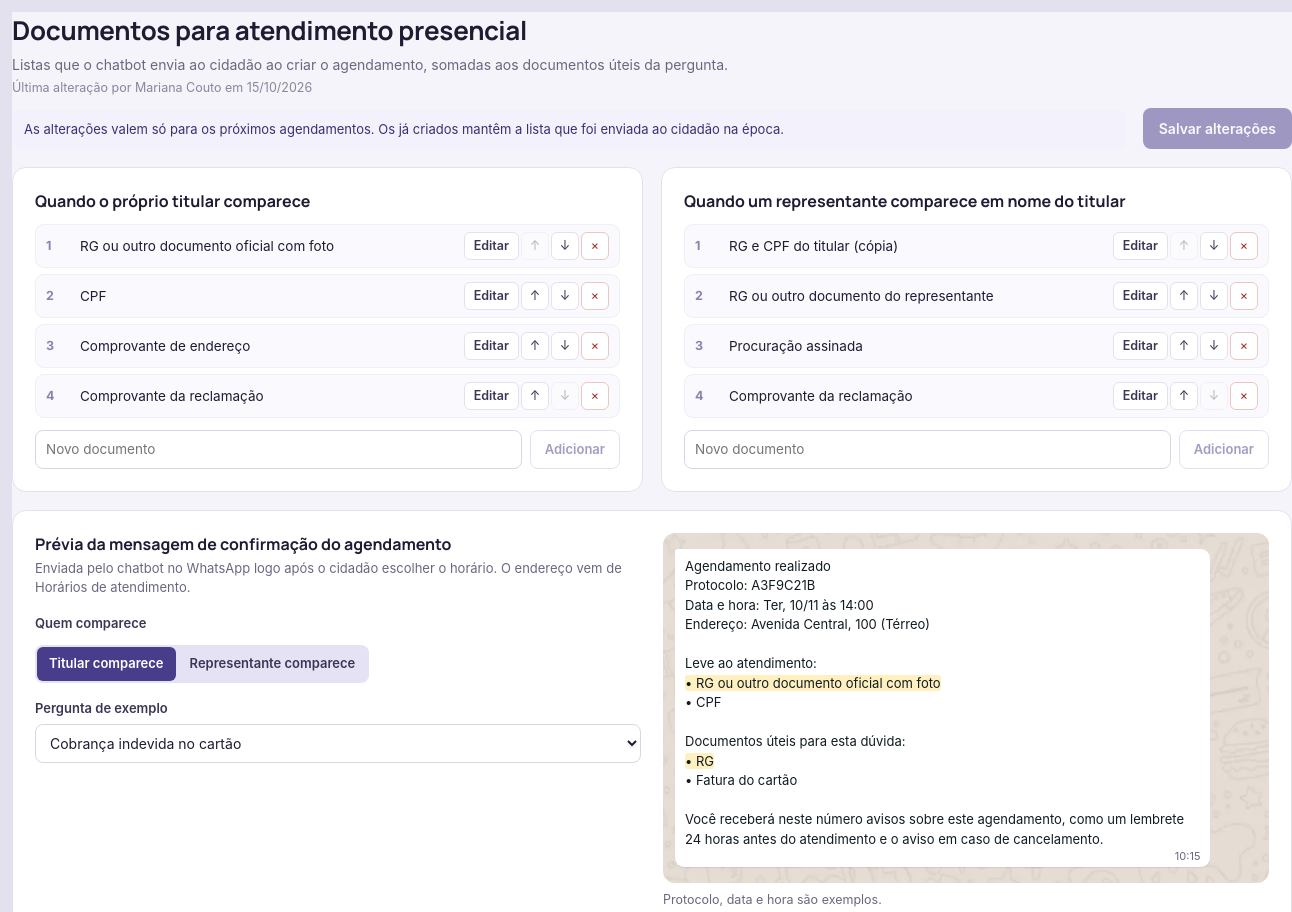
Test case: DocumentsPage › conta a mudança líquida e lista as pendentes ao passar o mouse
In the field named "Novo documento (Quando o próprio titular comparece)": (278, 449) [35, 430, 522, 469], type "Carteira de Trabalho"
Then press Enter
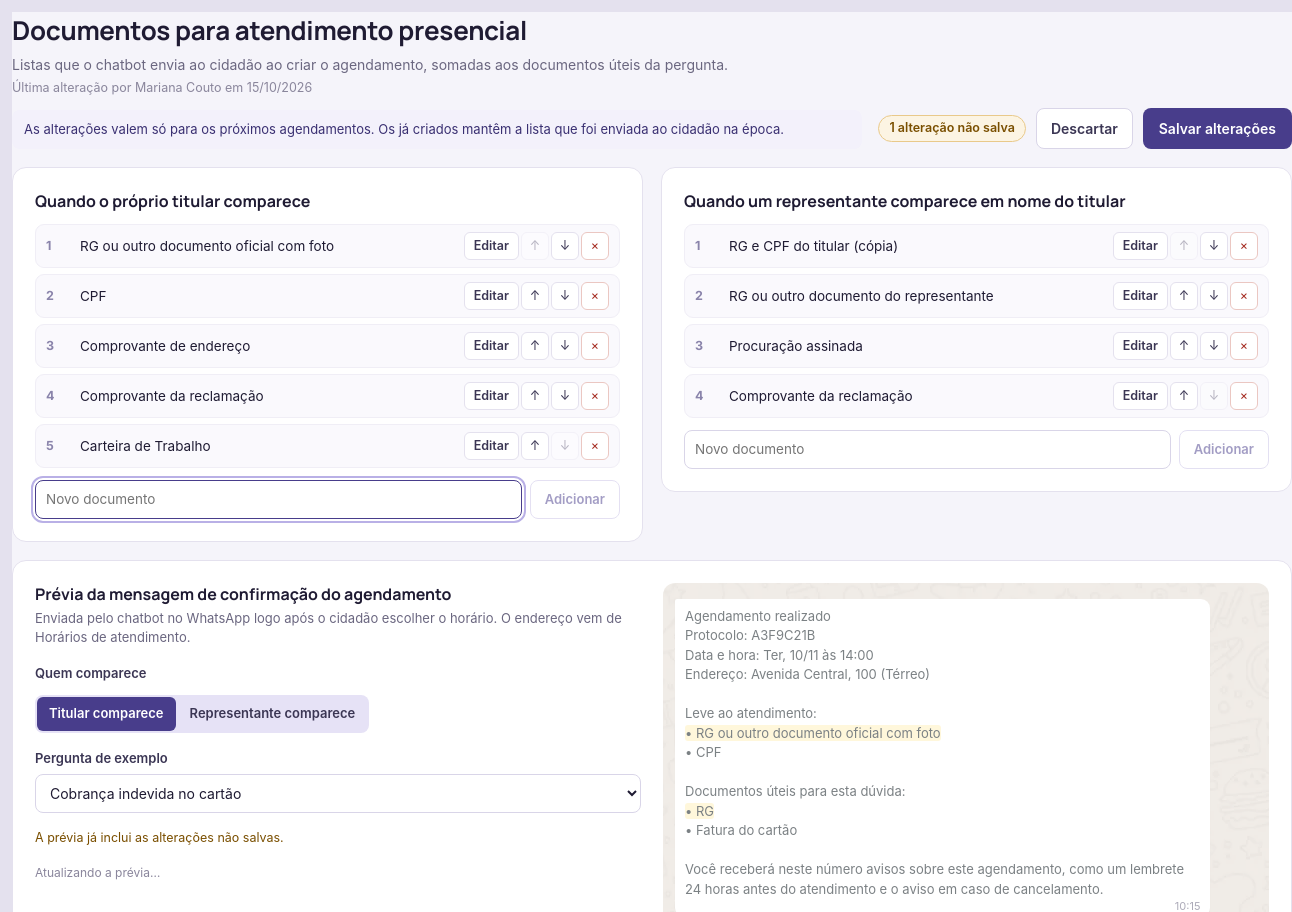
Click the button named "Remover CPF": (595, 296) [581, 282, 609, 310]
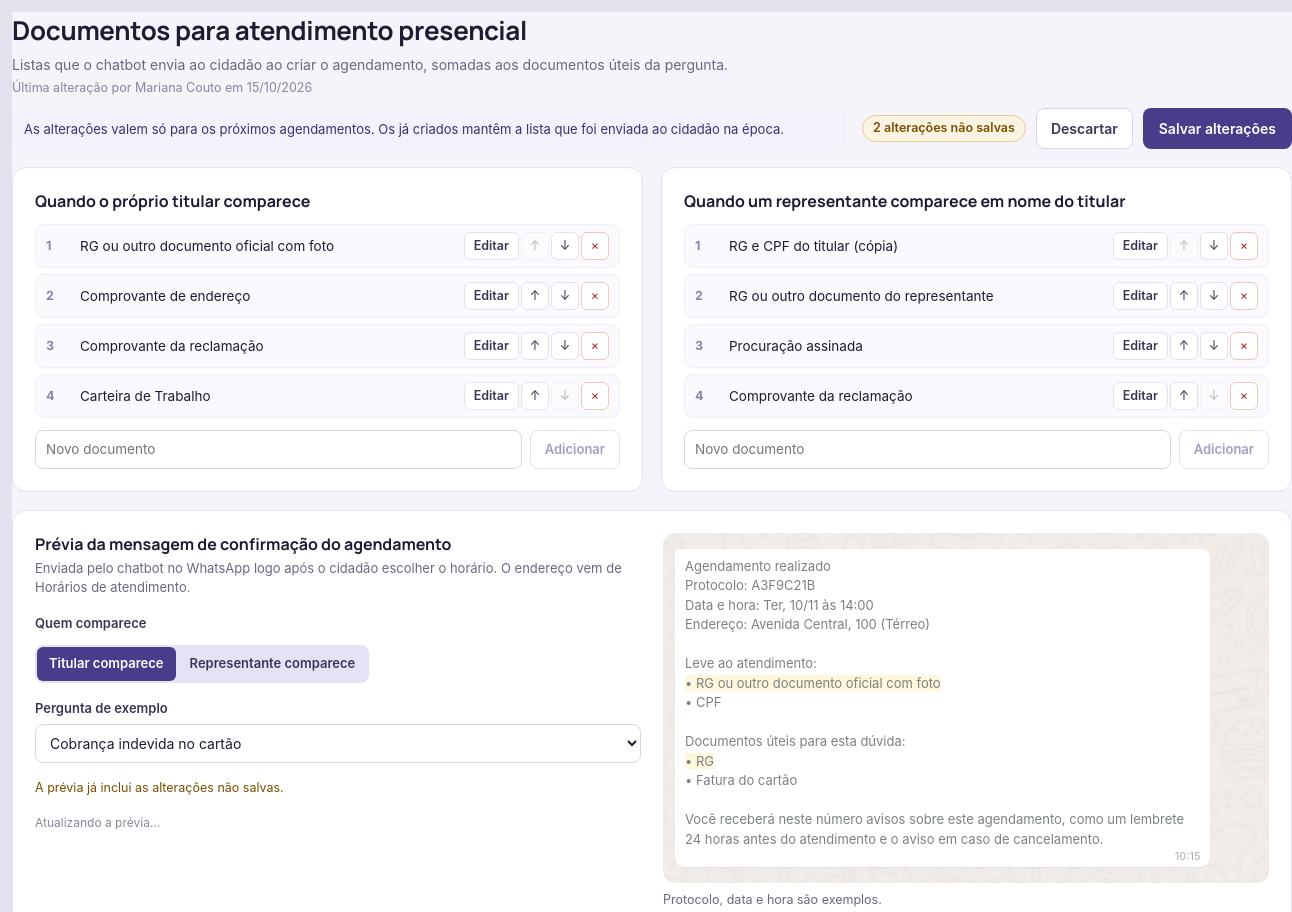
Click the button named "Mover Comprovante de endereço para cima": (535, 296) [521, 282, 549, 310]
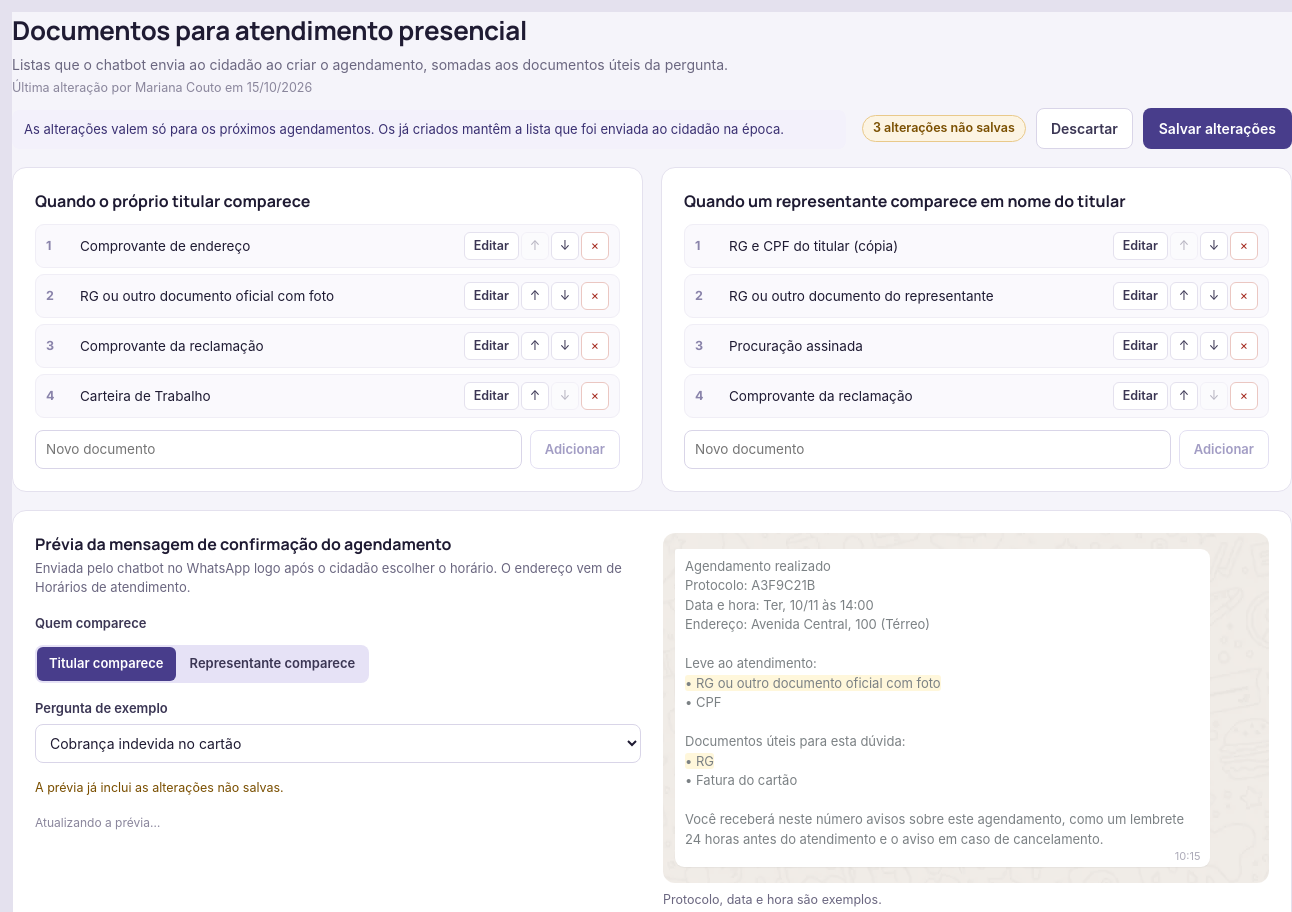
Hover over the button "3 alterações não salvas": (944, 129) [862, 115, 1026, 142]
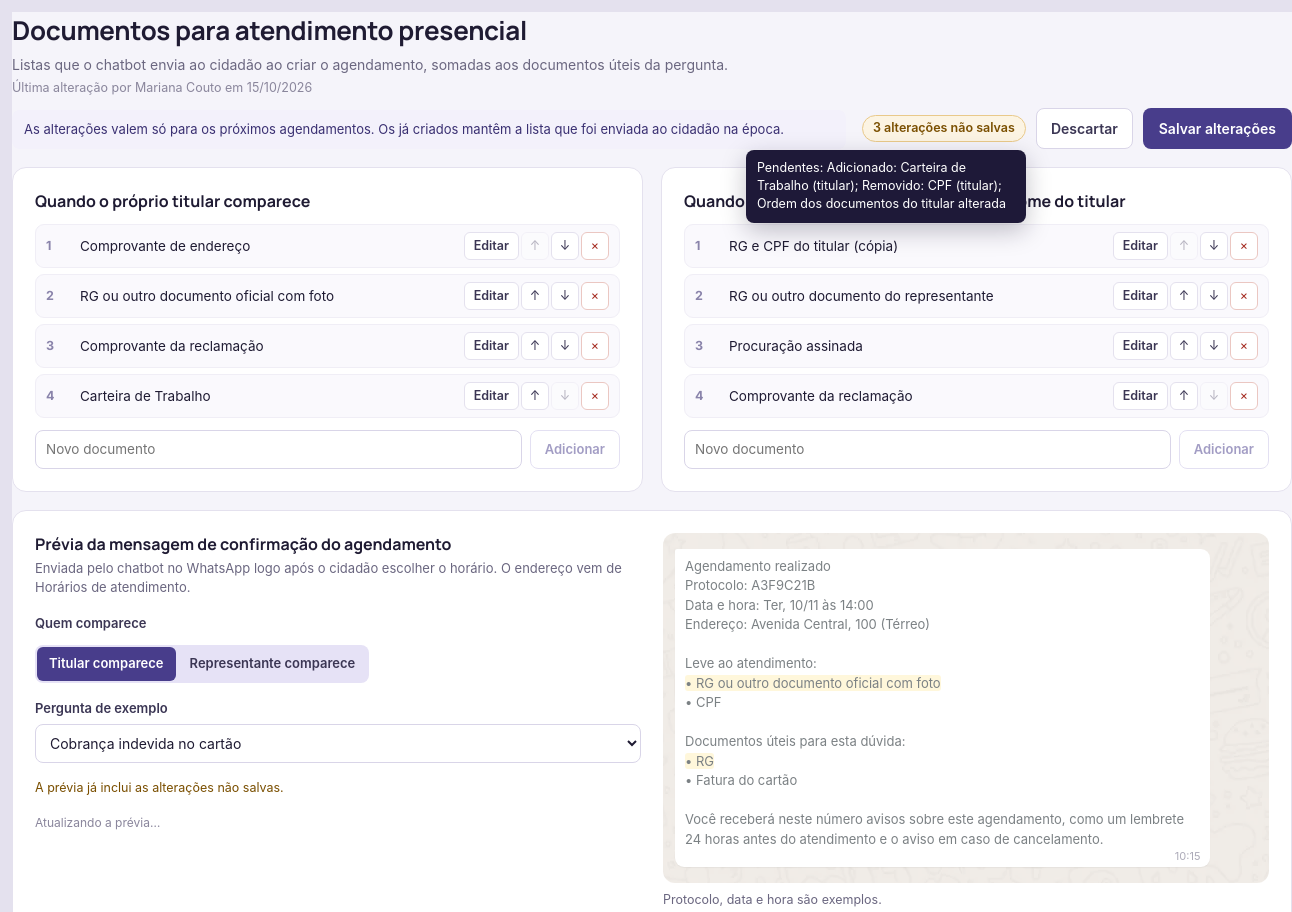
Result: the tooltip shows "Pendentes: Adicionado: Carteira de Trabalho (titular); Removido: CPF (titular); Ordem dos documentos do titular alterada" at [757, 160, 1006, 211]
